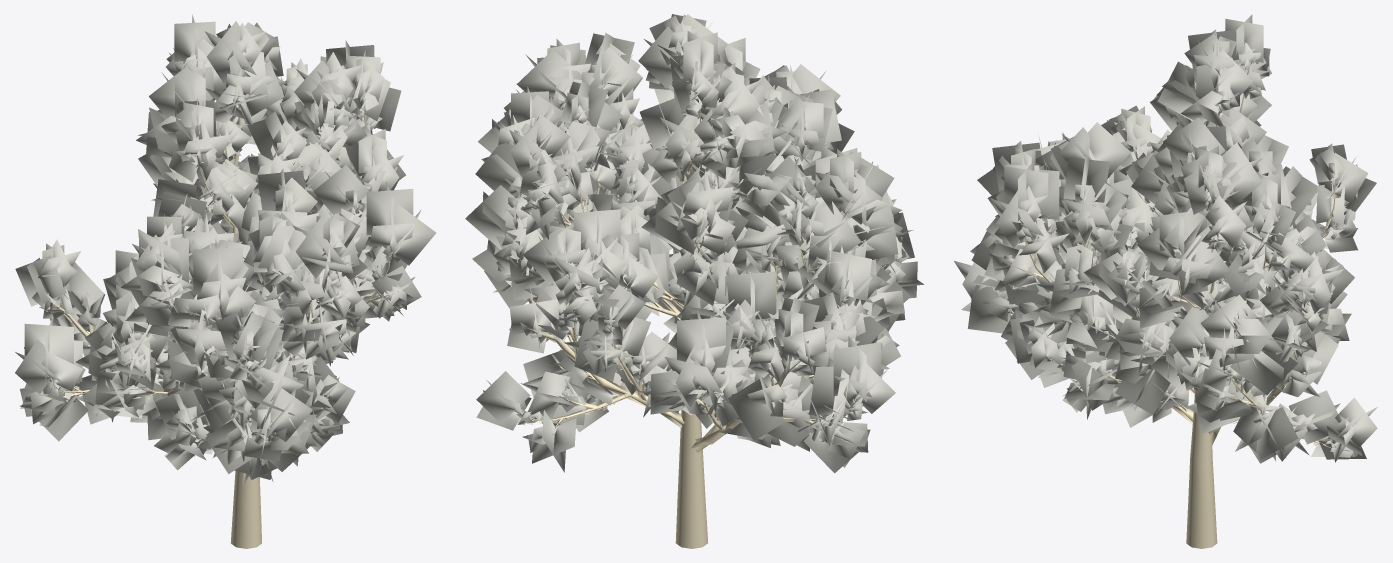
File: oak_large_v1_lod1.glb
3 renders of one model, left to right at view 1: azimuth 30°, elevation 25°; view 2: azimuth 150°, elevation 25°; view 3: azimuth 270°, elevation 25°, orthographic. The views are drawn at different scales.
Visible parts, largest first — view 1: Leaves, Branches; view 2: Leaves, Branches; view 3: Leaves, Branches.
Part boxes in pixels (x1,y1,x2,y2): Leaves: (15, 14, 436, 486); Branches: (48, 96, 390, 548); Leaves: (465, 14, 924, 473); Branches: (516, 47, 857, 548); Leaves: (954, 14, 1377, 463); Branches: (1009, 94, 1343, 548).
Size of the model in its own units: 83.29 by 107 by 80.86.
